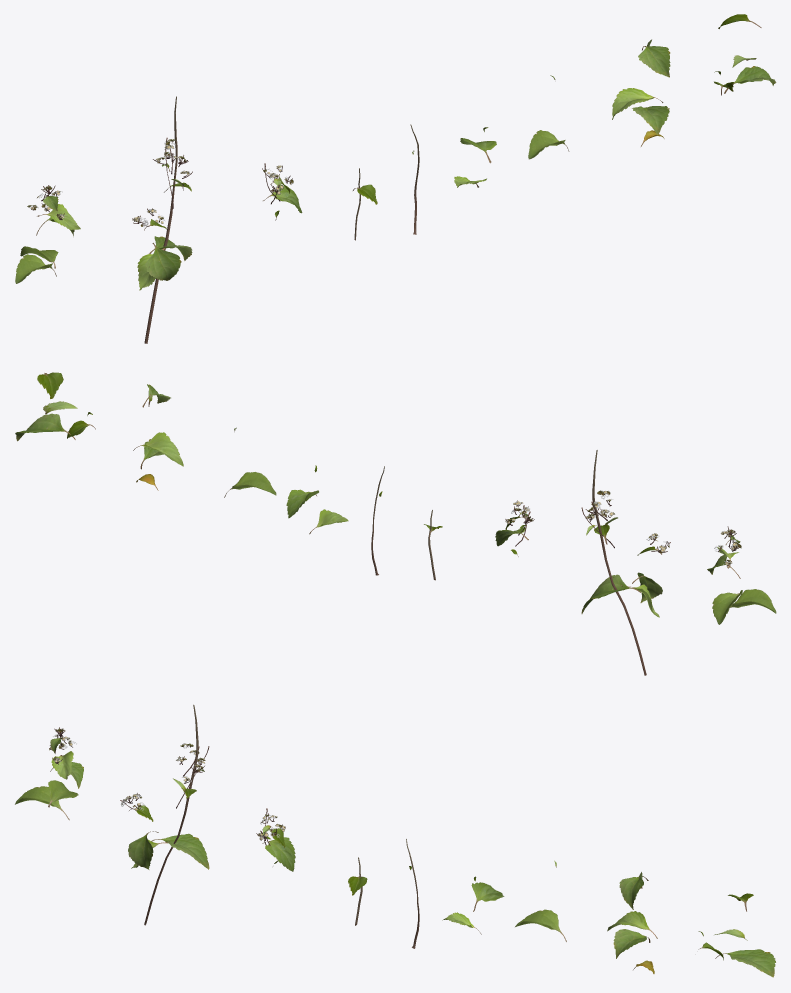
Rendered from shrub_b.glb.
The picture shows the model from 3 angles, top to bottom: view 1: azimuth 30°, elevation 25°; view 2: azimuth 150°, elevation 25°; view 3: azimuth 330°, elevation 25°; orthographic projection. The views are drawn at different scales.
Parts seen in each view (by area): view 1: shrub_01_a; view 2: shrub_01_a; view 3: shrub_01_a.
Part boxes in pixels (left/top/right/bottom): shrub_01_a: left=15, top=14, right=776, bottom=343; shrub_01_a: left=15, top=372, right=776, bottom=675; shrub_01_a: left=15, top=704, right=775, bottom=977.
Size of the model in its own units: 2.67 by 0.7616 by 0.2412.
1 material, 1 textured.
